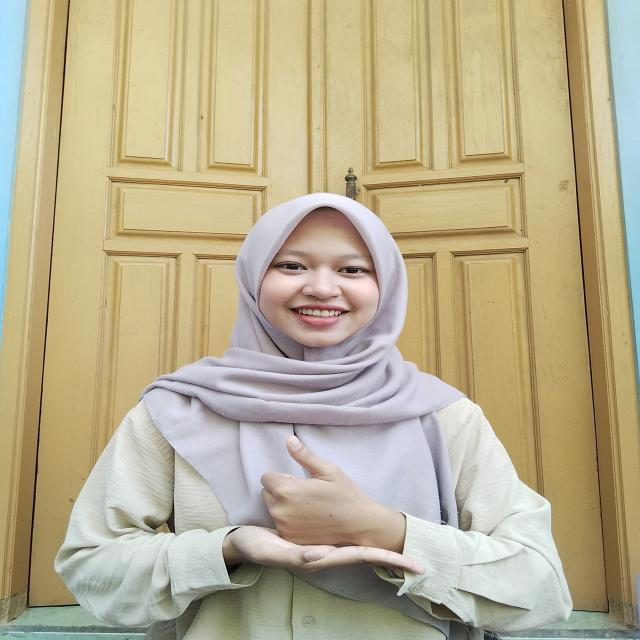cantik: (220, 423, 428, 587)
